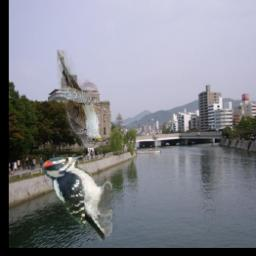Cuckoo: (57, 49, 107, 148)
Woodpecker: (42, 153, 112, 243)
